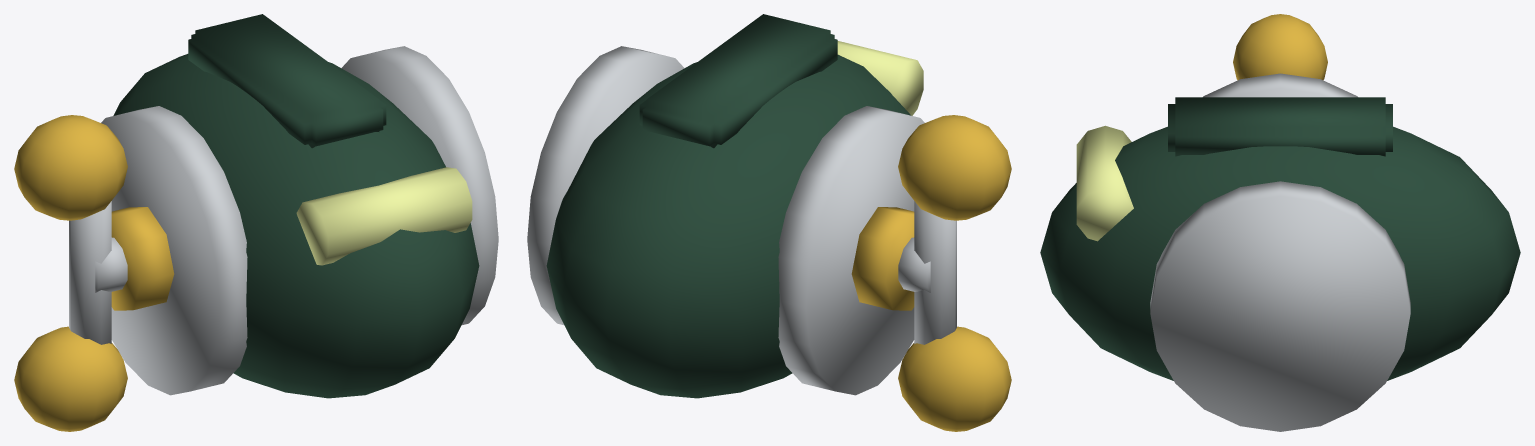
File: reel_baitcast.fbx
3 views of the same model, side by side, from view 1: azimuth 30°, elevation 25°; view 2: azimuth 150°, elevation 25°; view 3: azimuth 270°, elevation 25° (orthographic). The views are drawn at different scales.
Visible parts, largest first — view 1: Body, Crank; view 2: Body, Crank; view 3: Body, Crank.
Boxes of the visible parts, left/top/right/bottom form: Body: left=101, top=14, right=498, bottom=398; Crank: left=14, top=115, right=127, bottom=431; Body: left=527, top=14, right=924, bottom=398; Crank: left=898, top=115, right=1011, bottom=431; Body: left=1040, top=73, right=1520, bottom=431; Crank: left=1233, top=14, right=1327, bottom=80.
Size of the model in its own units: 0.1374 by 0.1 by 0.1561.
